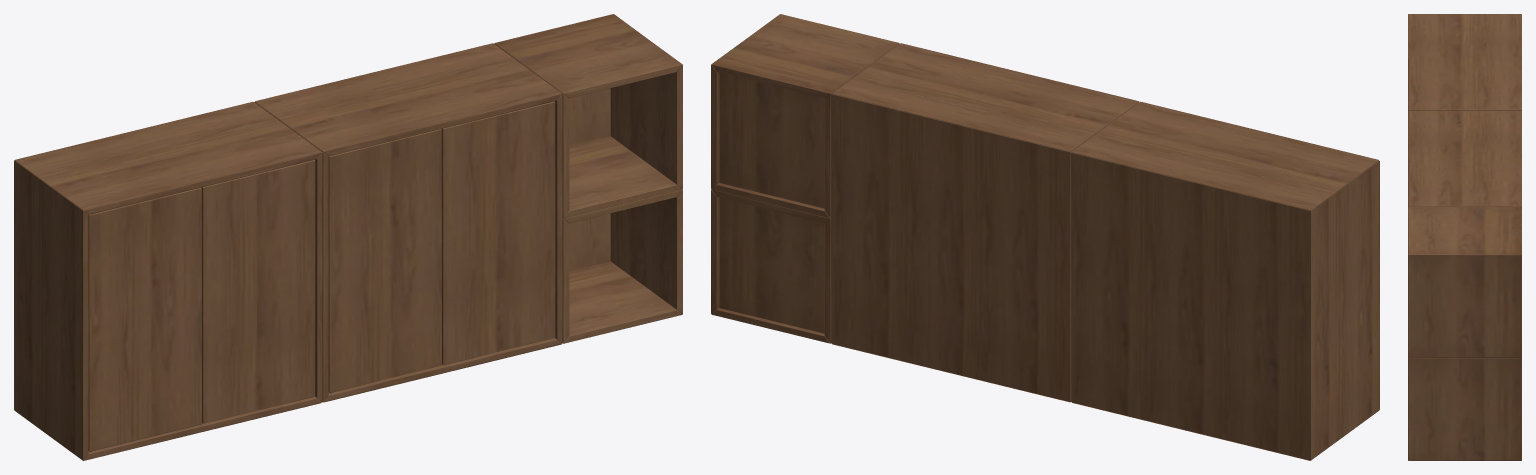
The picture shows the model from 3 angles, left to right: view 1: azimuth 30°, elevation 25°; view 2: azimuth 150°, elevation 25°; view 3: azimuth 270°, elevation 25°; orthographic projection. The views are drawn at different scales.
Parts seen in each view (by area): view 1: Mesh_0; view 2: Mesh_0; view 3: Mesh_0.
Boxes of the visible parts, x1,y1,x2,y2 form: Mesh_0: (14, 14, 682, 460); Mesh_0: (711, 14, 1379, 460); Mesh_0: (1408, 14, 1521, 460).
Size of the model in its own units: 1.75 by 0.6999 by 0.35.
1 material, 1 textured.
